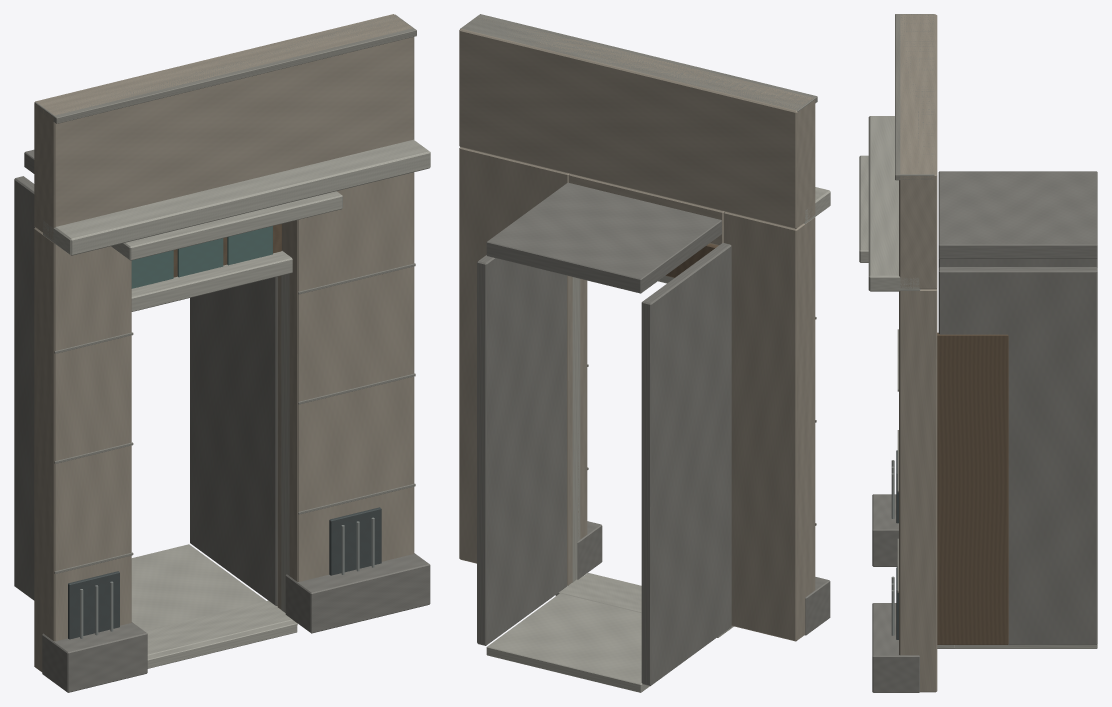
The model's file is F05_ResidentialEntry_visual.glb.
The picture shows the model from 3 angles, left to right: view 1: azimuth 30°, elevation 25°; view 2: azimuth 150°, elevation 25°; view 3: azimuth 270°, elevation 25°; orthographic projection. The views are drawn at different scales.
Parts seen in each view (by area): view 1: F05_ResidentialEntry__VIS; view 2: F05_ResidentialEntry__VIS; view 3: F05_ResidentialEntry__VIS.
Part boxes in pixels (<box>): F05_ResidentialEntry__VIS: <box>14,14,430,692</box>; F05_ResidentialEntry__VIS: <box>459,14,830,692</box>; F05_ResidentialEntry__VIS: <box>859,14,1097,692</box>.
Bounding box in the file's own units: 12.08 × 18.3 × 7.5.
Materials: 1 (1 with a texture image).
